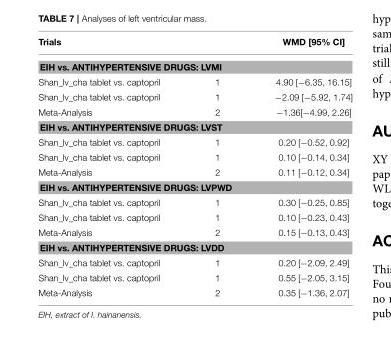table: (37, 37, 351, 297)
table column: (37, 37, 186, 297), (246, 37, 351, 297), (186, 37, 246, 297)
table column header: (37, 37, 351, 54)
table projected row header: (37, 54, 351, 74), (37, 119, 351, 134), (37, 179, 351, 194), (37, 240, 351, 255)
table row: (37, 54, 351, 74), (37, 37, 351, 54), (37, 224, 351, 240), (37, 74, 351, 89), (37, 89, 351, 104), (37, 104, 351, 119), (37, 119, 351, 134), (37, 134, 351, 149), (37, 149, 351, 164), (37, 164, 351, 179), (37, 179, 351, 194), (37, 194, 351, 209), (37, 209, 351, 224), (37, 240, 351, 255), (37, 255, 351, 270), (37, 270, 351, 285), (37, 285, 351, 297)
